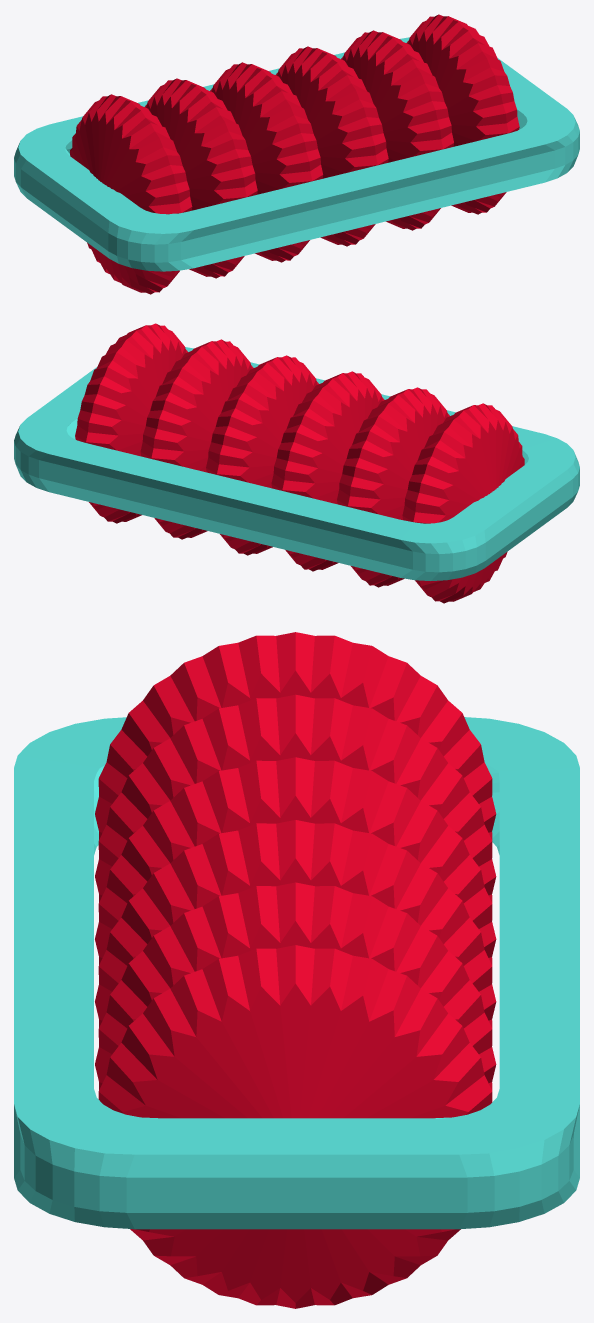
The model's file is block.fbx.
The picture shows the model from 3 angles, top to bottom: view 1: azimuth 30°, elevation 25°; view 2: azimuth 150°, elevation 25°; view 3: azimuth 270°, elevation 25°; orthographic projection. The views are drawn at different scales.
Visible parts, largest first — view 1: Cube, Circle.007, Circle.004, Circle.003, Circle.005, Circle.006, Circle.001; view 2: Cube, Circle.007, Circle.003, Circle.004, Circle.005, Circle.006, Circle.001; view 3: Cube, Circle.001, Circle.007, Circle.005, Circle.004, Circle.003, Circle.006.
Boxes of the visible parts, left/top/right/bottom form: Cube: left=14, top=37, right=579, bottom=271; Circle.007: left=70, top=94, right=192, bottom=294; Circle.004: left=275, top=46, right=388, bottom=246; Circle.003: left=341, top=30, right=453, bottom=230; Circle.005: left=210, top=62, right=323, bottom=262; Circle.006: left=145, top=78, right=257, bottom=278; Circle.001: left=406, top=14, right=519, bottom=214; Cube: left=14, top=347, right=579, bottom=580; Circle.007: left=402, top=403, right=524, bottom=603; Circle.003: left=140, top=339, right=253, bottom=539; Circle.004: left=206, top=355, right=318, bottom=555; Circle.005: left=271, top=371, right=384, bottom=571; Circle.006: left=337, top=387, right=449, bottom=587; Circle.001: left=75, top=323, right=187, bottom=523; Cube: left=14, top=717, right=579, bottom=1229; Circle.001: left=98, top=945, right=492, bottom=1308; Circle.007: left=95, top=632, right=496, bottom=849; Circle.005: left=95, top=757, right=496, bottom=965; Circle.004: left=95, top=820, right=496, bottom=1027; Circle.003: left=95, top=882, right=496, bottom=1090; Circle.006: left=95, top=694, right=496, bottom=902.
Bounding box in the file's own units: 405 × 155 × 218.
